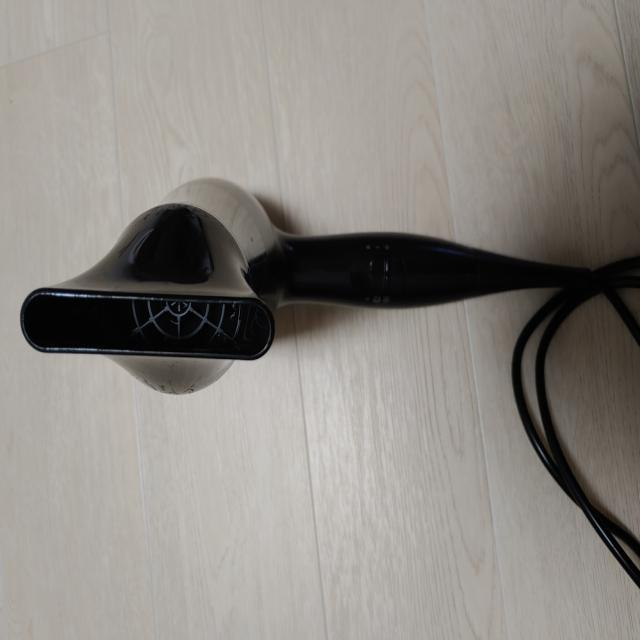dryer: (16, 174, 586, 399)
